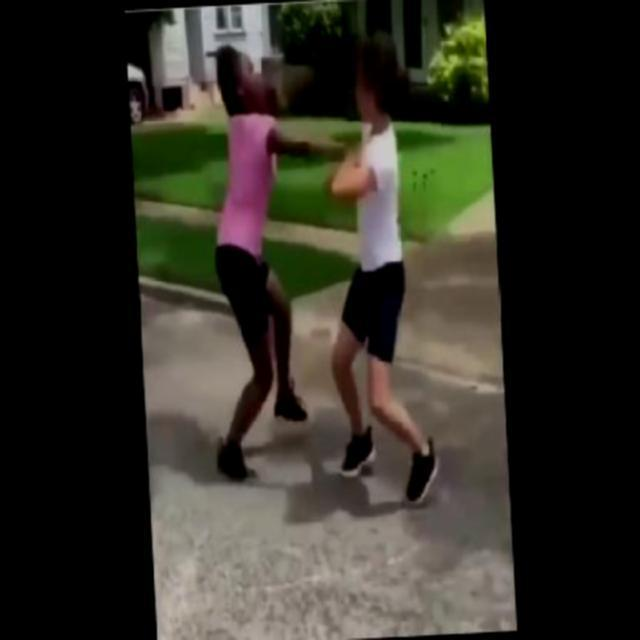fight: (196, 33, 442, 518)
